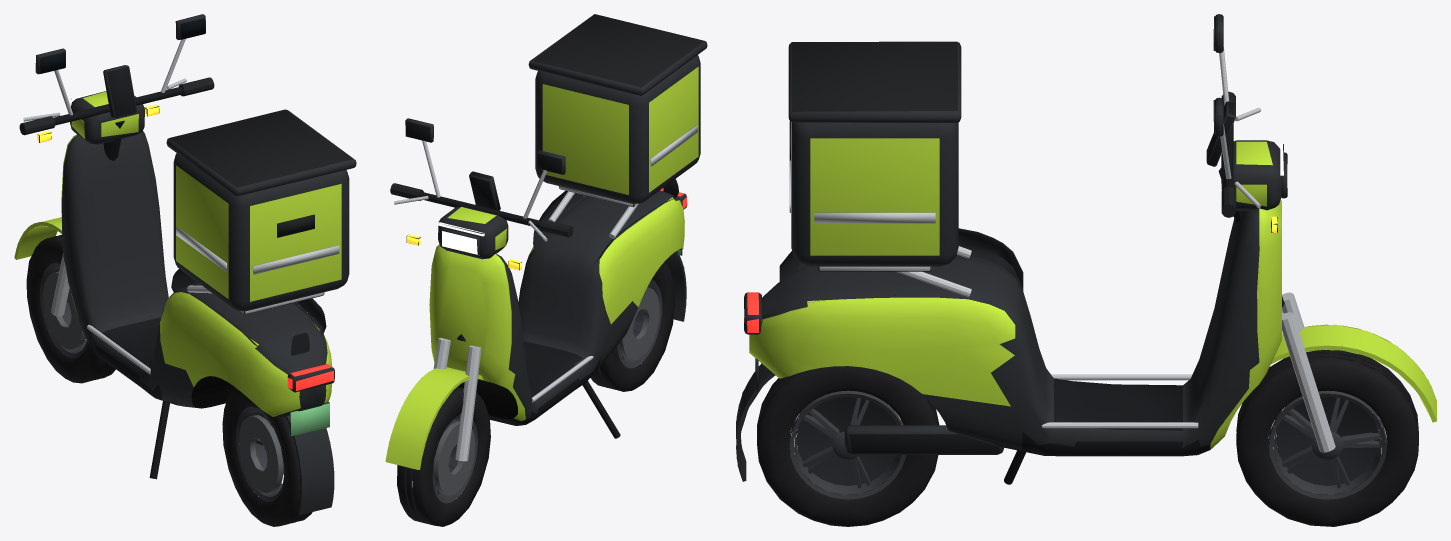
Rendered from gz_scooter_lod2.glb.
The picture shows the model from 3 angles, left to right: view 1: azimuth 30°, elevation 25°; view 2: azimuth 150°, elevation 25°; view 3: azimuth 270°, elevation 25°; orthographic projection. The views are drawn at different scales.
Visible parts, largest first — view 1: vehicle_lod2; view 2: vehicle_lod2; view 3: vehicle_lod2.
Boxes of the visible parts, x1,y1,x2,y2 form: vehicle_lod2: (14,14,356,526); vehicle_lod2: (385,14,707,526); vehicle_lod2: (736,14,1436,526).
Size of the model in its own units: 0.7 by 1.32 by 1.84.
